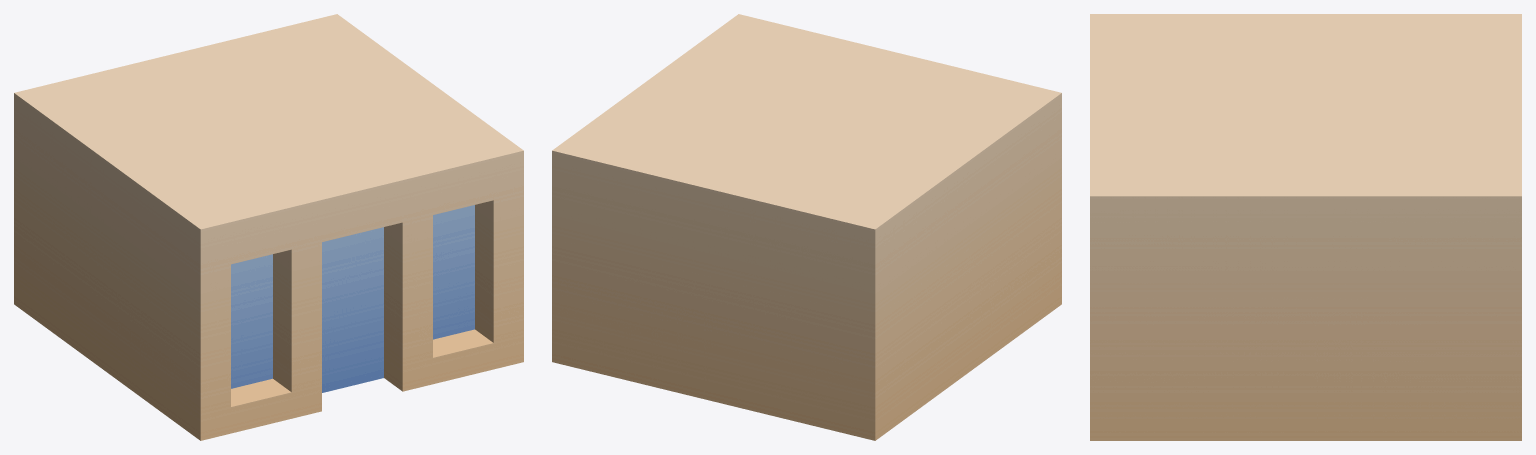
Rendered from building_window_door_window.glb.
3 renders of one model, left to right at view 1: azimuth 30°, elevation 25°; view 2: azimuth 150°, elevation 25°; view 3: azimuth 270°, elevation 25°, orthographic. The views are drawn at different scales.
Parts seen in each view (by area): view 1: building-window-door-window; view 2: building-window-door-window; view 3: building-window-door-window.
Boxes of the visible parts, <box> form: building-window-door-window: <box>14,14,523,440</box>; building-window-door-window: <box>552,14,1061,440</box>; building-window-door-window: <box>1090,14,1521,440</box>.
Size of the model in its own units: 1 by 0.625 by 1.
1 material, 1 textured.
